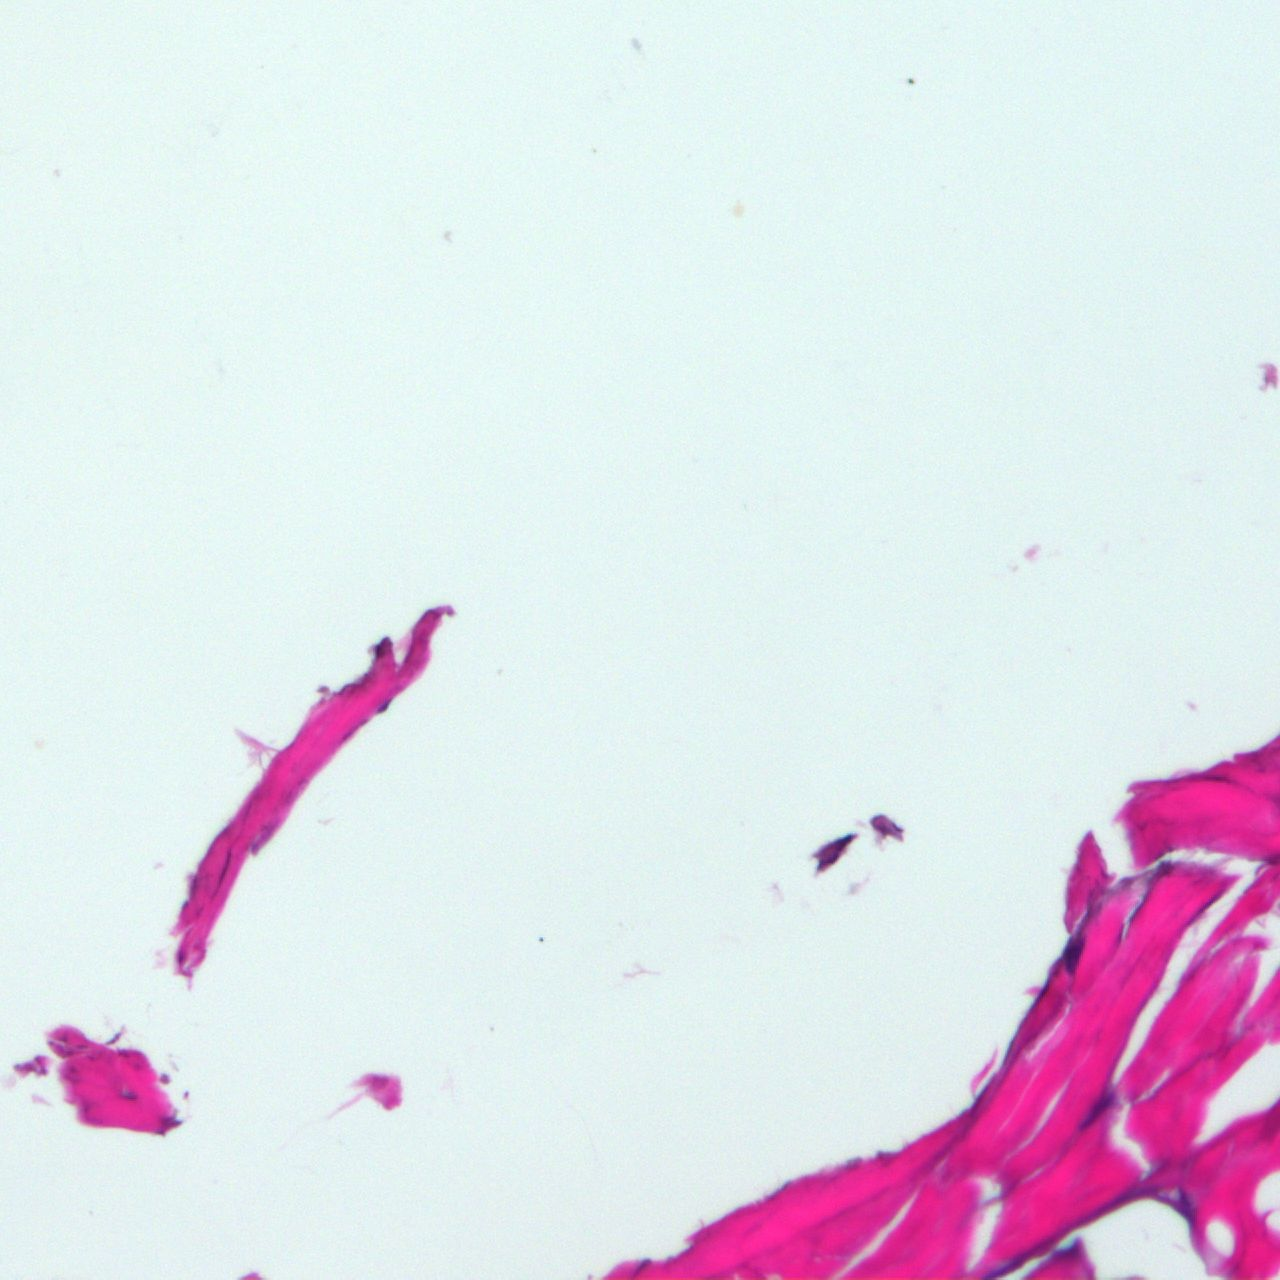dust: (731, 200, 743, 217), (907, 79, 914, 84), (593, 148, 595, 152)
nucleus-HE: (1076, 1092, 1115, 1131), (1056, 932, 1087, 972), (376, 701, 390, 714), (373, 644, 382, 656)
